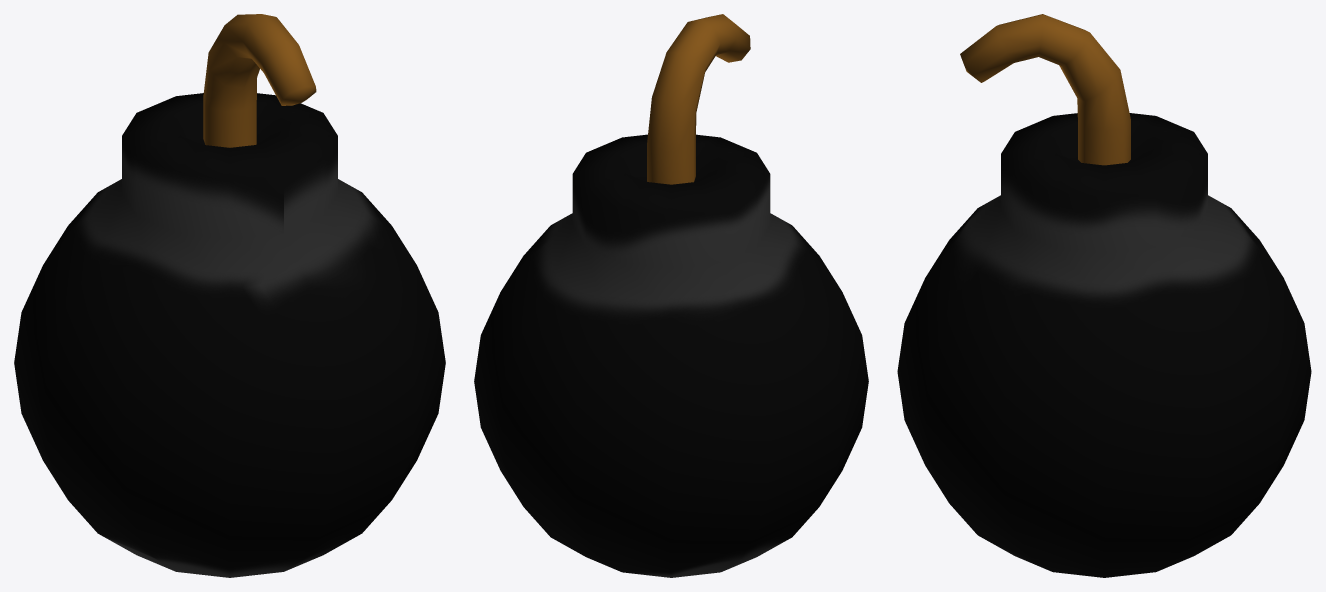
Rendered from bomb.fbx.
3 views of the same model, side by side, from view 1: azimuth 30°, elevation 25°; view 2: azimuth 150°, elevation 25°; view 3: azimuth 270°, elevation 25° (orthographic). The views are drawn at different scales.
Parts seen in each view (by area): view 1: Bomb; view 2: Bomb; view 3: Bomb.
Boxes of the visible parts, x1=… form: Bomb: x1=14, y1=14, x2=445, y2=577; Bomb: x1=474, y1=14, x2=868, y2=577; Bomb: x1=897, y1=14, x2=1311, y2=577.
Bounding box in the file's own units: 200 × 290 × 200.
